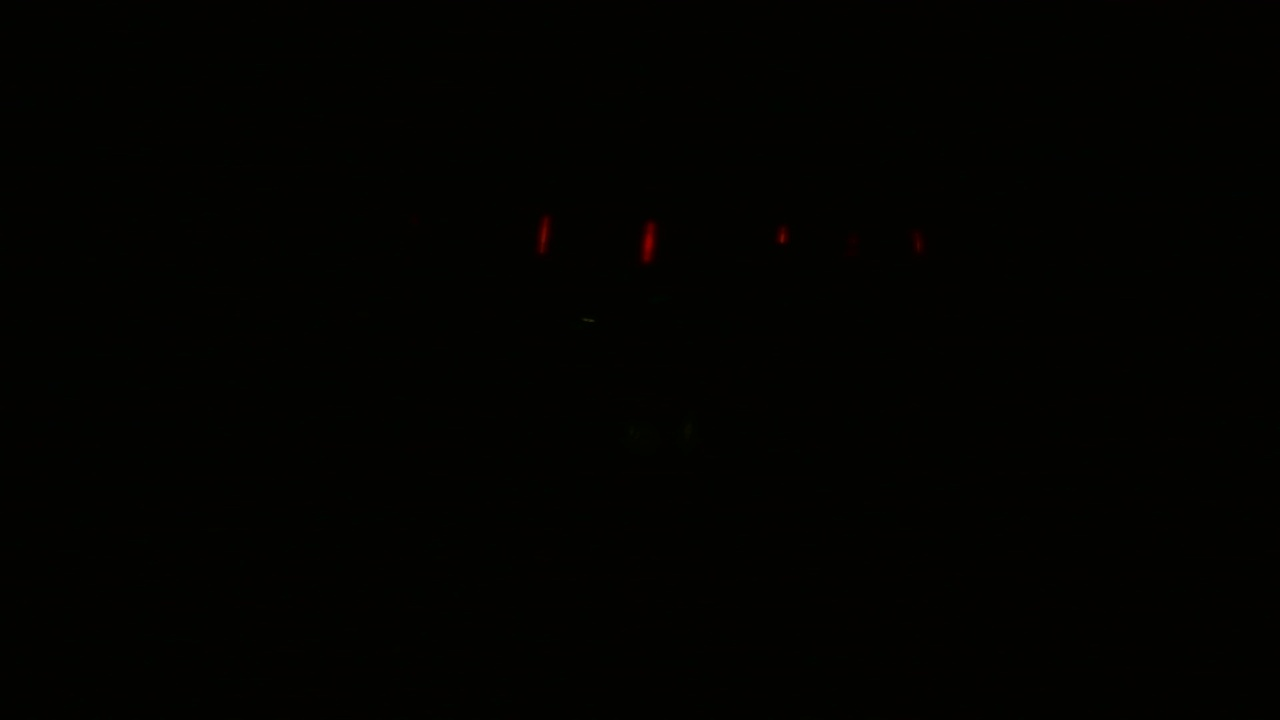pair1: (535, 212, 656, 264)
